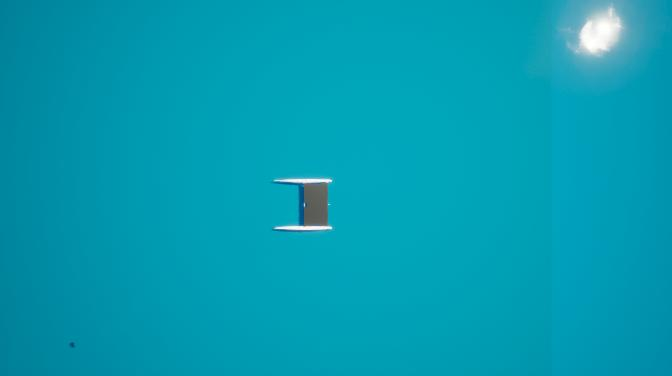boat: (272, 176, 336, 234)
drone: (69, 342, 76, 349)
land_base: (306, 184, 327, 225)
light_reflex: (556, 1, 642, 68)
